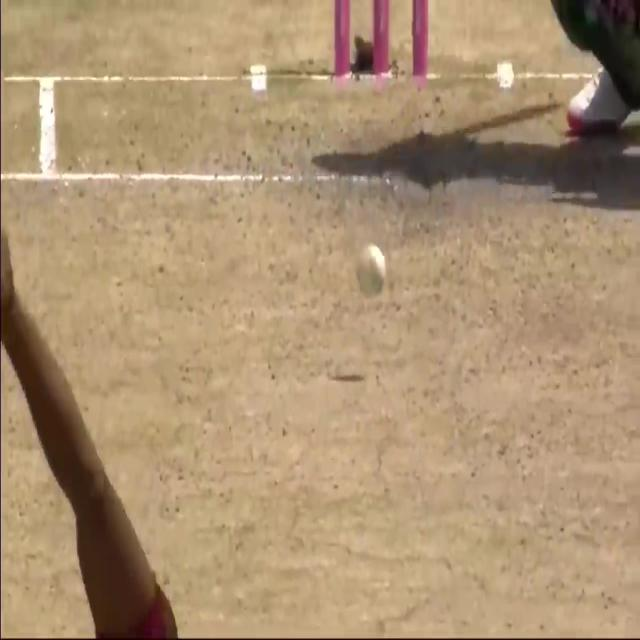Batsman: (349, 232, 394, 307)
